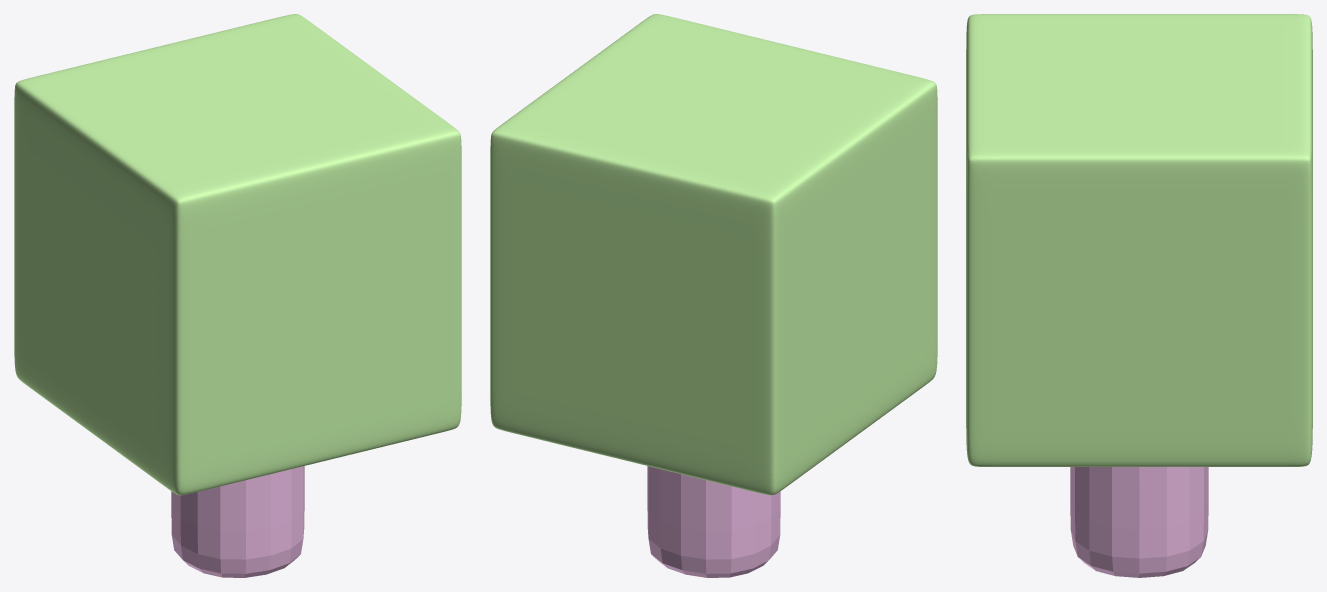
The model's file is tree.glb.
The picture shows the model from 3 angles, left to right: view 1: azimuth 30°, elevation 25°; view 2: azimuth 150°, elevation 25°; view 3: azimuth 270°, elevation 25°; orthographic projection. The views are drawn at different scales.
Visible parts, largest first — view 1: Cube, 立方体; view 2: Cube, 立方体; view 3: Cube, 立方体.
Boxes of the visible parts, <box> form: Cube: <box>14,14,461,495</box>; 立方体: <box>171,466,304,577</box>; Cube: <box>490,14,937,495</box>; 立方体: <box>647,466,780,577</box>; Cube: <box>966,14,1312,466</box>; 立方体: <box>1070,467,1208,577</box>.
Bounding box in the file's own units: 0.8958 × 1.35 × 0.8958.
